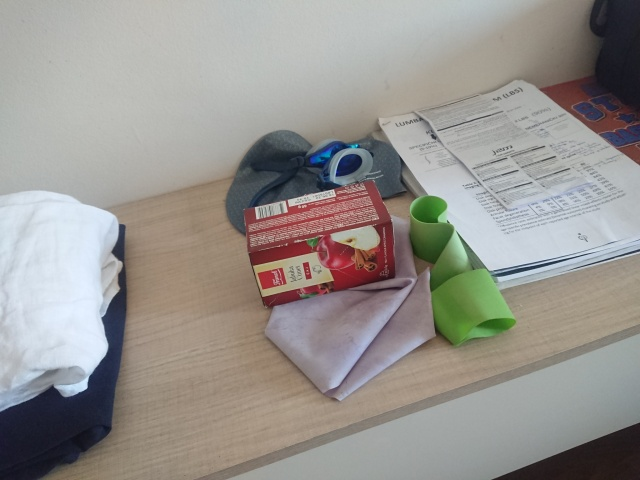Franck Apple Cinnamon Tea 60g: (240, 177, 398, 309)
